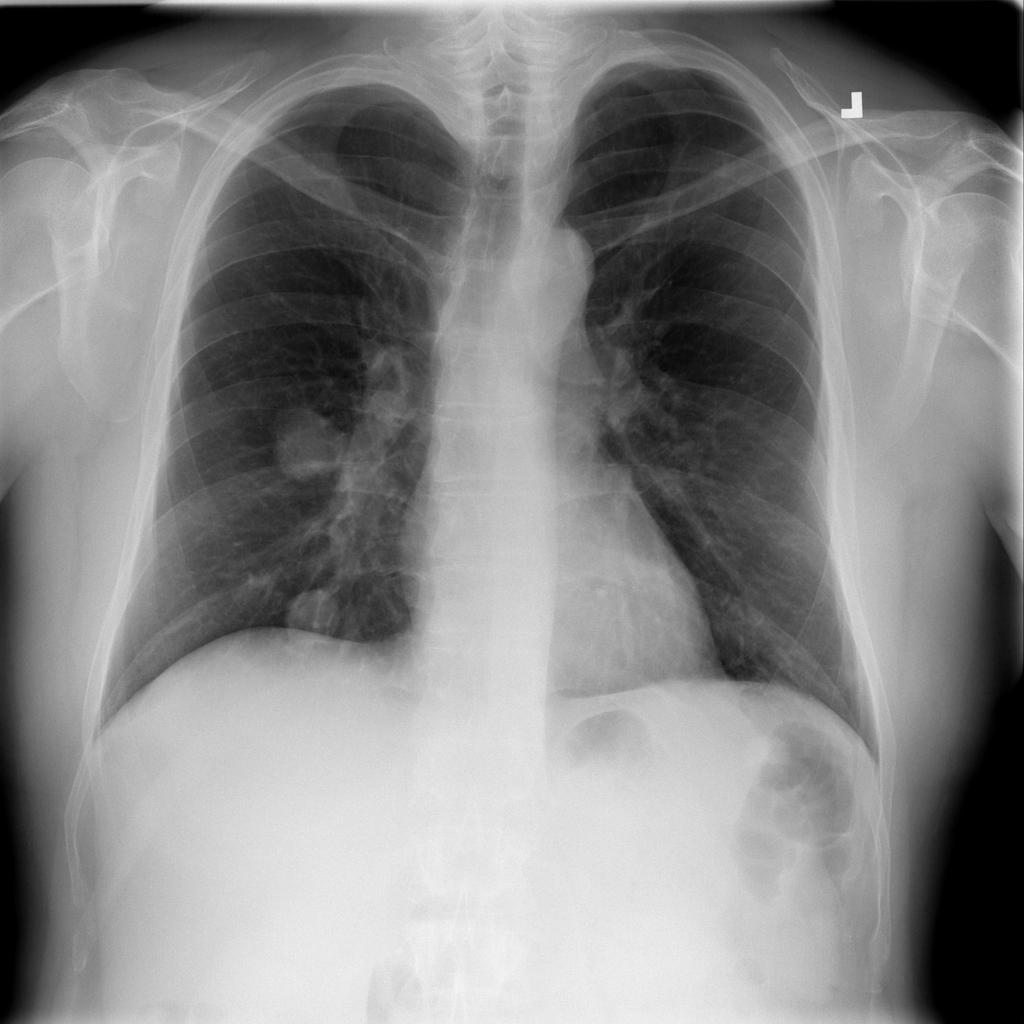nodule: (258, 391, 362, 500), (275, 577, 357, 658)
